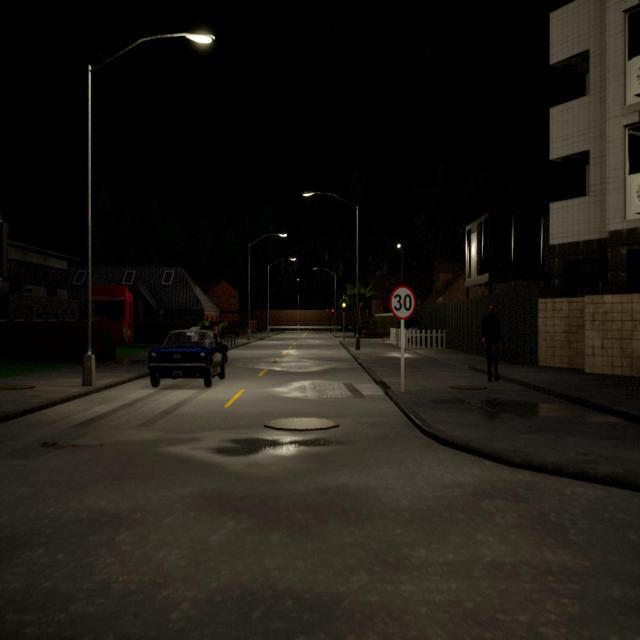Pedestrian: (481, 305, 501, 381)
Traffic_Signs: (389, 286, 417, 318)
Vehicle: (148, 327, 228, 387)
traffic_light: (341, 298, 346, 312), (332, 309, 334, 318)
